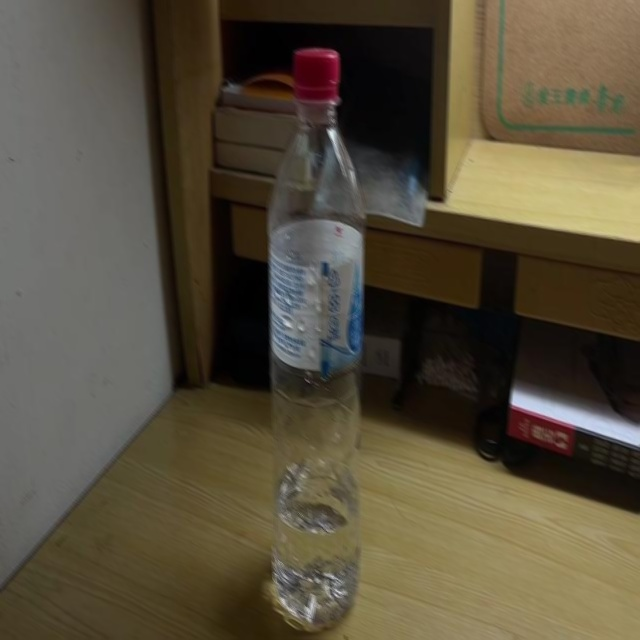Water: (269, 46, 364, 640)
